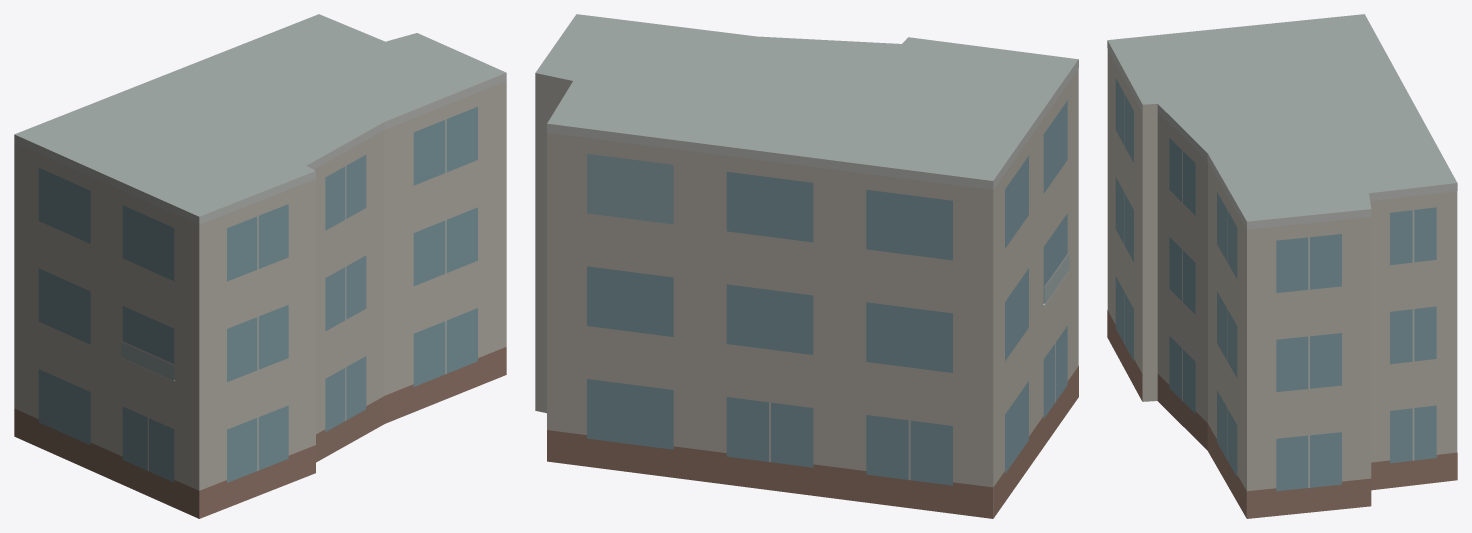
The model's file is survey-upis-32908938.glb.
3 renders of one model, left to right at view 1: azimuth 30°, elevation 25°; view 2: azimuth 150°, elevation 25°; view 3: azimuth 270°, elevation 25°, orthographic. The views are drawn at different scales.
Parts seen in each view (by area): view 1: survey-upis-32908938.tmp; view 2: survey-upis-32908938.tmp; view 3: survey-upis-32908938.tmp.
Part boxes in pixels (<box>): survey-upis-32908938.tmp: <box>14,14,506,518</box>; survey-upis-32908938.tmp: <box>535,14,1078,518</box>; survey-upis-32908938.tmp: <box>1107,14,1457,518</box>.
Size of the model in its own units: 13.72 by 9.15 by 9.78.
